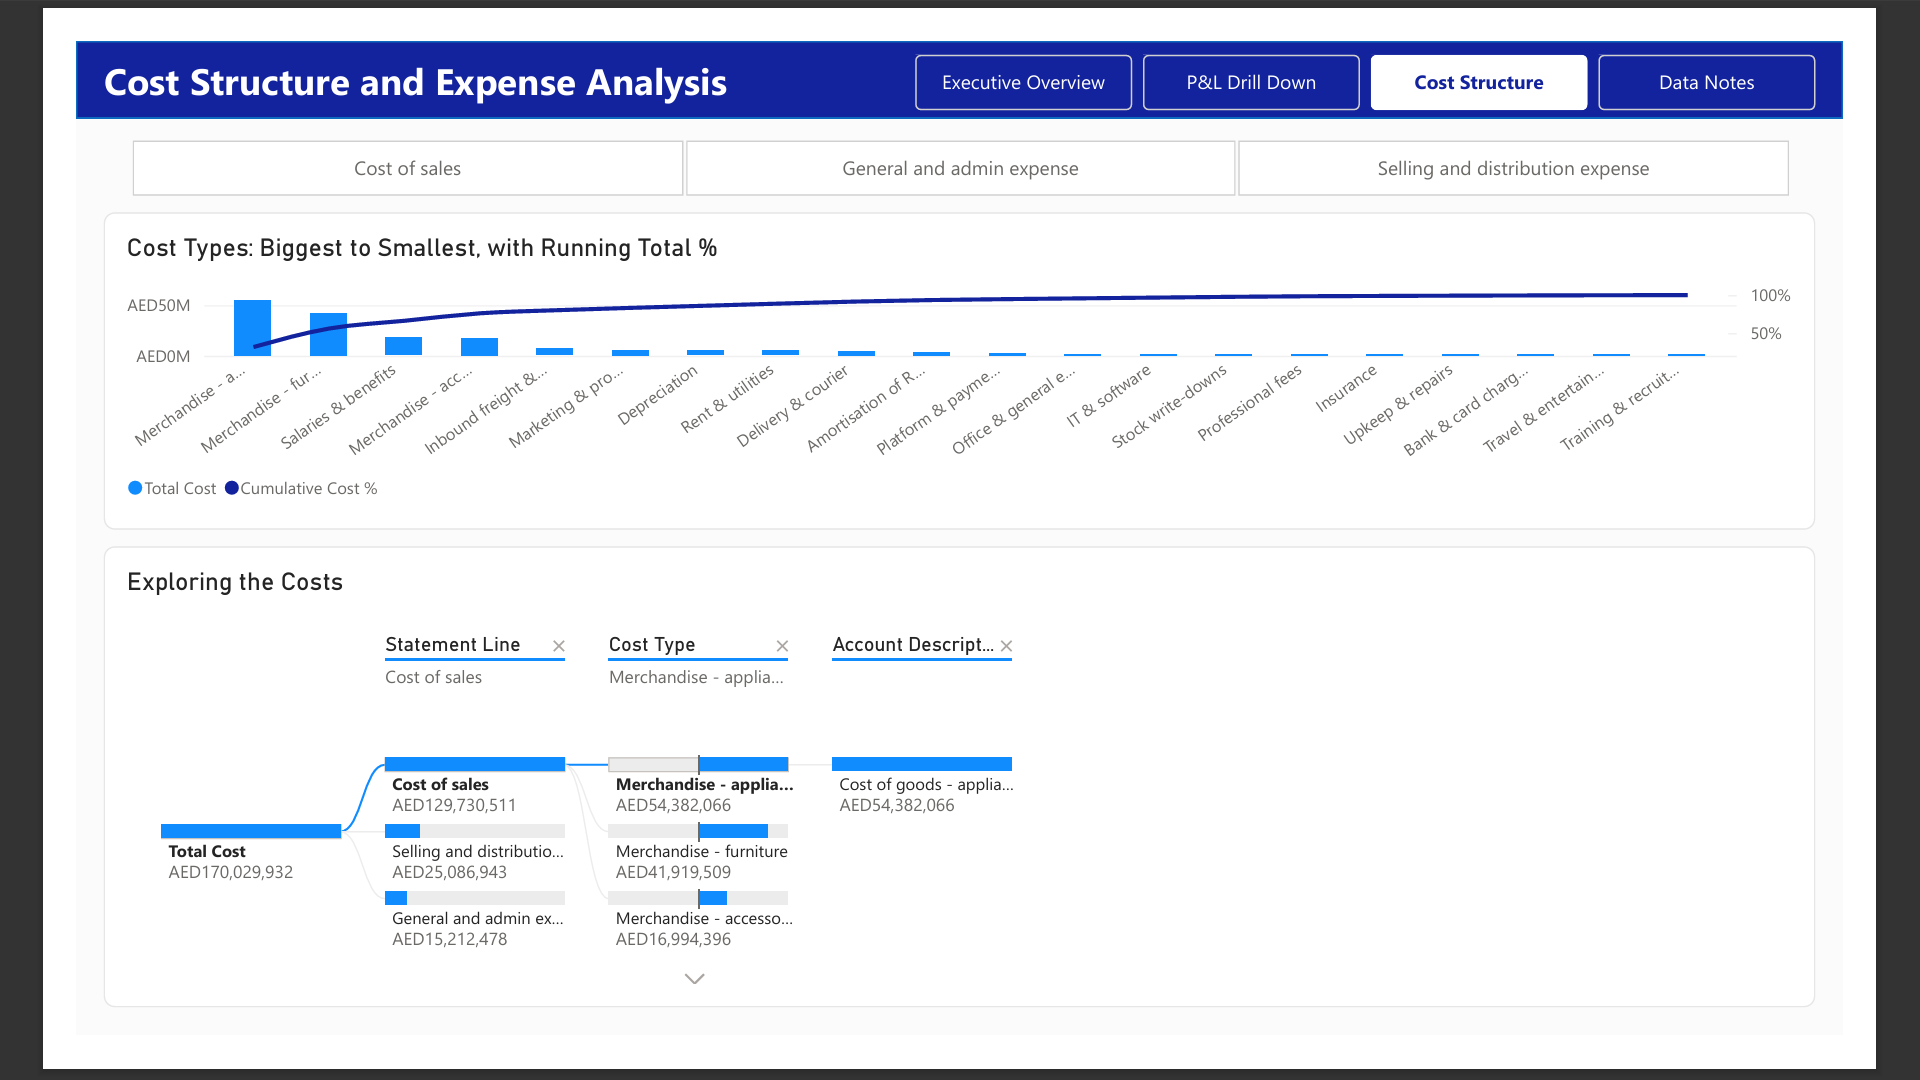

The dashboard page shown, as its layout file describes it:
{"tool":"powerbi","page":{"name":"Cost Structure","canvas":[1280,720],"ordinal":3},"visuals":[{"type":"decompositionTreeVisual","title":"Exploring the Costs","fields":{"Analyze":["_Measures.Total Cost"],"ExplainBy":["Dim_Combination.FS Caption","Dim_Combination.IS Expense by Nature","Dim_Combination.Account Description"]},"box":[20,366,1240,334],"z":0},{"type":"lineClusteredColumnComboChart","title":"Cost Types: Biggest to Smallest, with Running Total %","fields":{"Category":["Dim_Combination.IS Expense by Nature"],"Y":["_Measures.Total Cost"],"Y2":["_Measures.Cumulative Cost %"]},"box":[20,124,1240,230],"z":1000},{"type":"shape","title":"Executive Financial Overview","box":[0,0,1280,56],"z":2000},{"type":"pageNavigator","box":[608.3,10,651.7,40],"z":3000},{"type":"textbox","box":[20,10,575,40],"z":4000},{"type":"slicer","fields":{"Values":["Dim_Combination.FS Caption"]},"box":[20,70,1240,44],"z":5000}]}

Visuals, with their boxes in screenshot pixels (x1, y1, x2, y2), scaled from the page's 1280x720 canvas onto the 1920x1080 screenshot:
"Exploring the Costs" decompositionTreeVisual: pyautogui.locateOnScreen(30, 549, 1890, 1050)
"Cost Types: Biggest to Smallest, with Running Total %" lineClusteredColumnComboChart: pyautogui.locateOnScreen(30, 186, 1890, 531)
"Executive Financial Overview" shape: pyautogui.locateOnScreen(0, 0, 1919, 84)
pageNavigator: pyautogui.locateOnScreen(912, 15, 1890, 75)
textbox: pyautogui.locateOnScreen(30, 15, 892, 75)
slicer - Dim_Combination.FS Caption: pyautogui.locateOnScreen(30, 105, 1890, 171)
